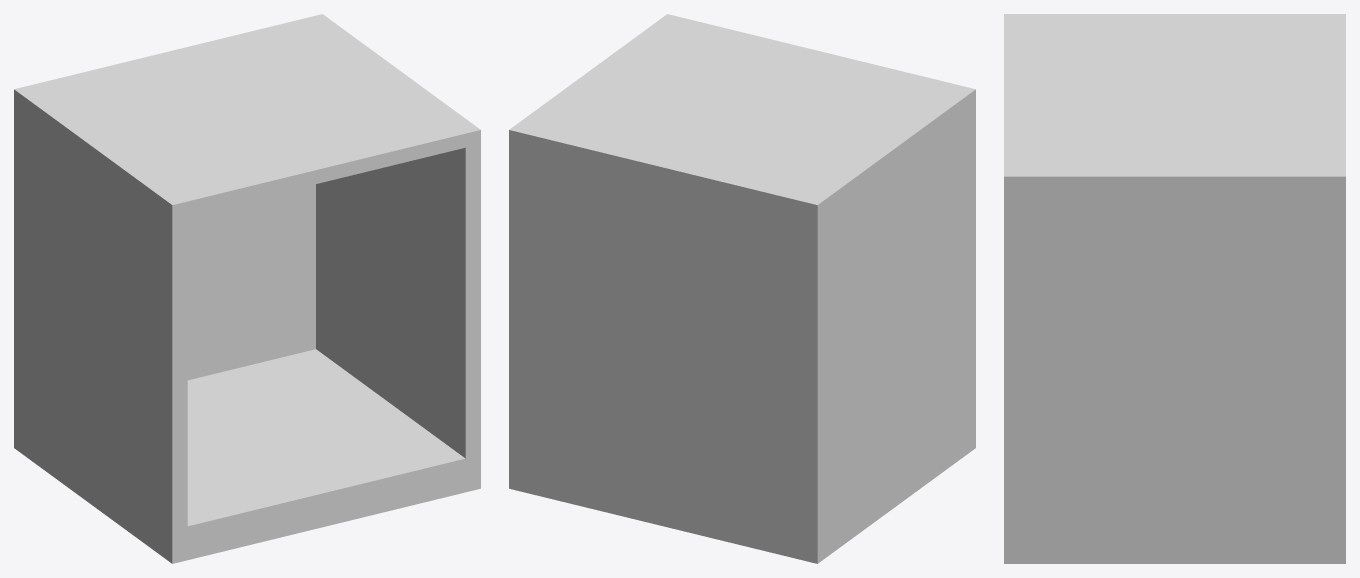
File: BedTable1_C3.fbx
The picture shows the model from 3 angles, left to right: view 1: azimuth 30°, elevation 25°; view 2: azimuth 150°, elevation 25°; view 3: azimuth 270°, elevation 25°; orthographic projection. The views are drawn at different scales.
Visible parts, largest first — view 1: BedTable1_C3; view 2: BedTable1_C3; view 3: BedTable1_C3.
Boxes of the visible parts, x1=… form: BedTable1_C3: x1=14, y1=14, x2=480, y2=563; BedTable1_C3: x1=509, y1=14, x2=975, y2=563; BedTable1_C3: x1=1004, y1=14, x2=1345, y2=563.
Size of the model in its own units: 45 by 50 by 40.
